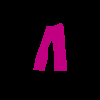pantaloni: (32, 22, 67, 71)
